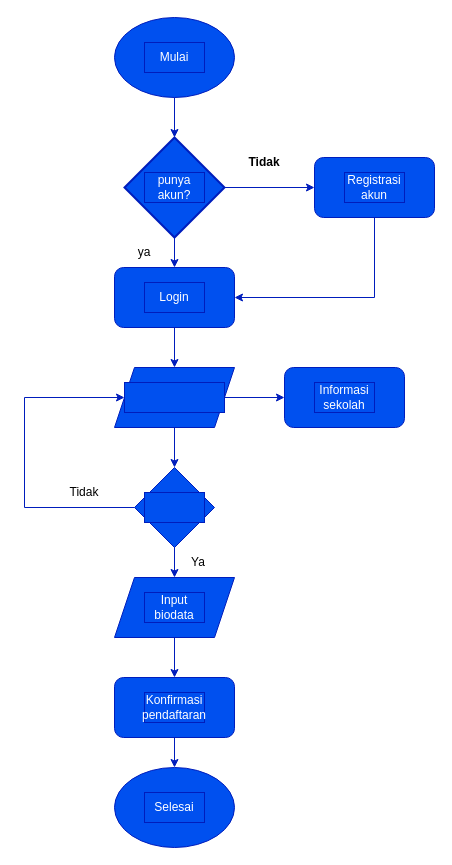
Image size: 452x865. Some labels were removed from this diagram. The shapes that lost their labels are listed below. From the top down, each one's centre as x and y in pixels, then its label:
At point (174, 397): "Input Ekstrakurikuler yang diinginkan".
At point (174, 507): "Kouta tersedia?".
